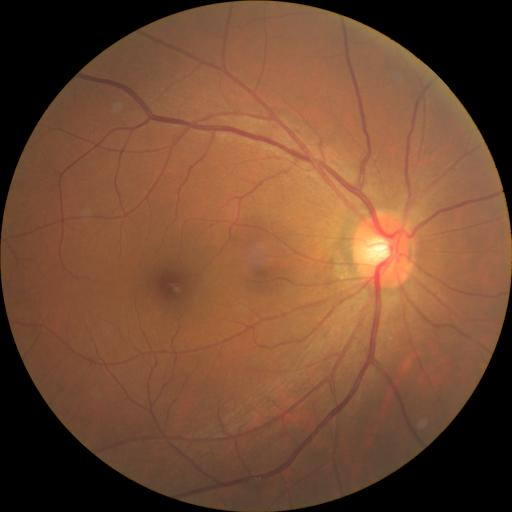Optic Cup: (364, 237, 391, 268)
Optic Disc: (351, 213, 413, 287)
